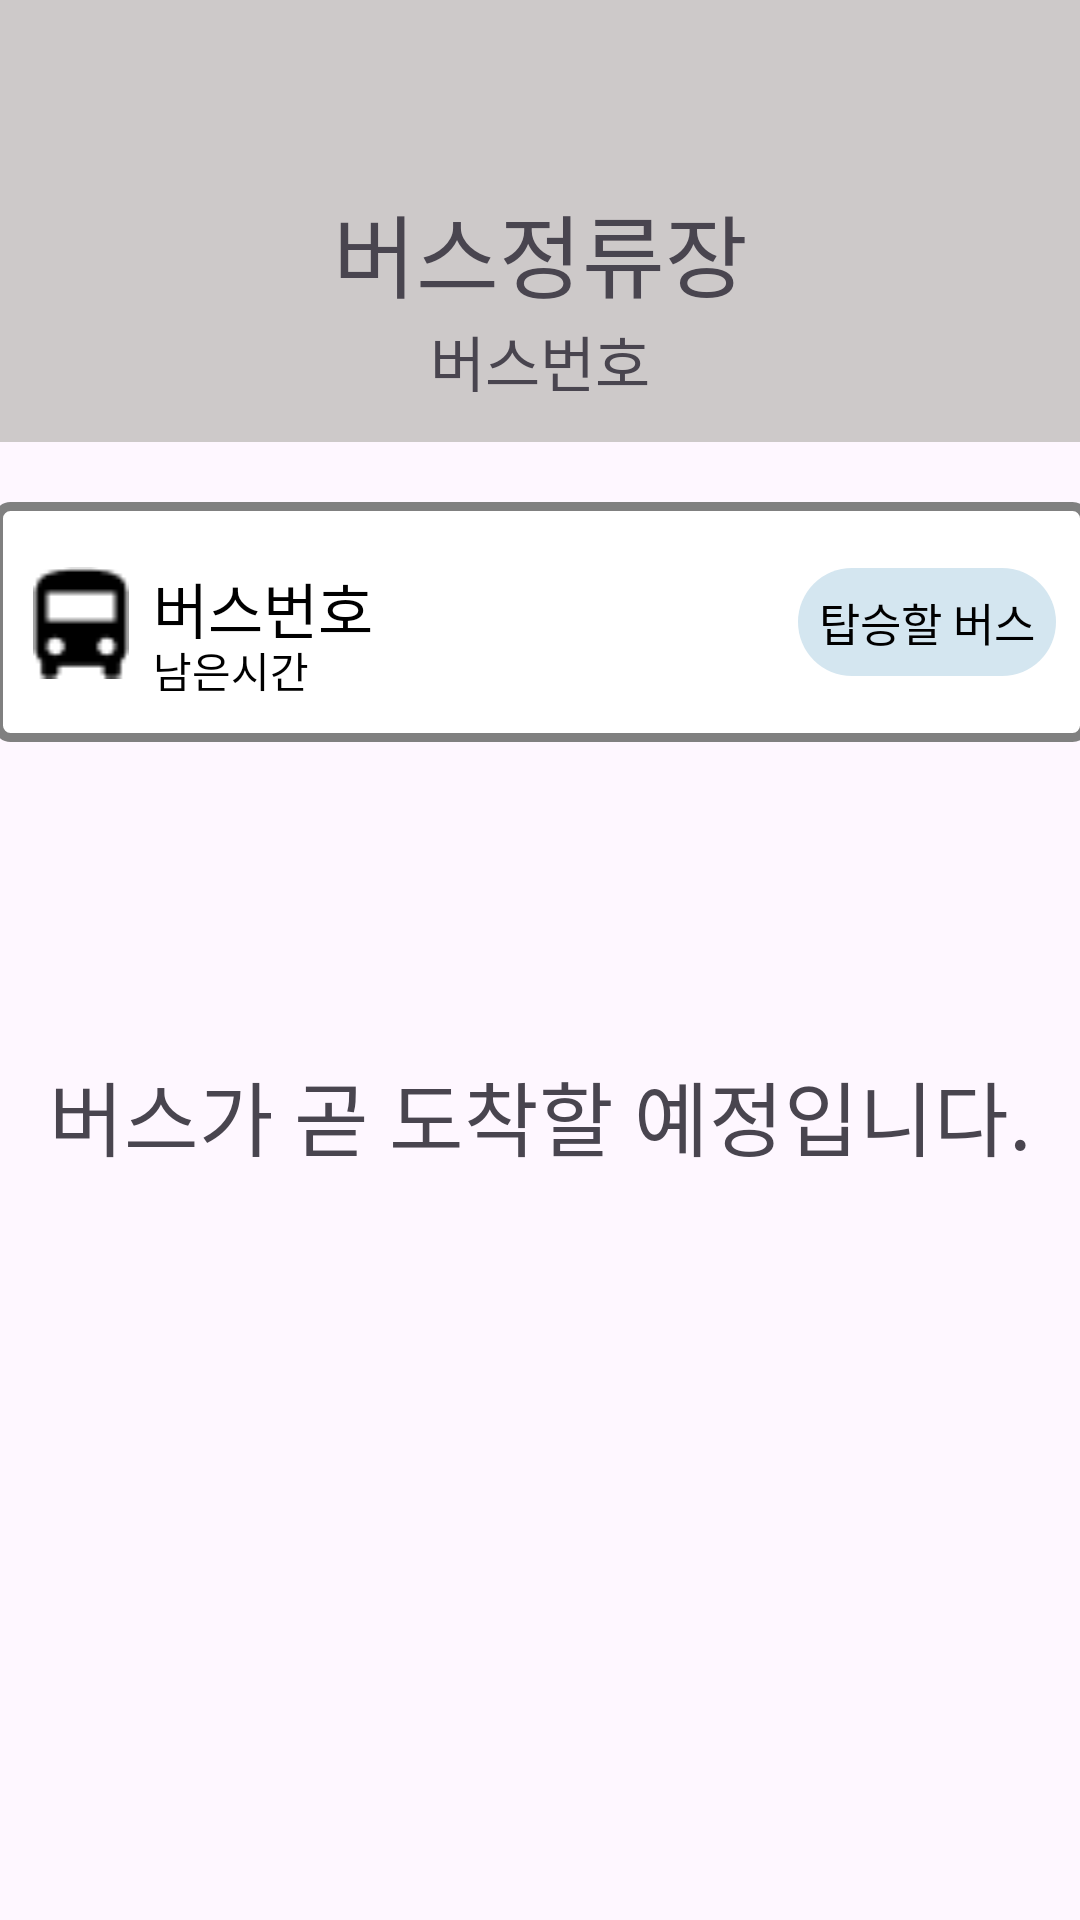

Named icons in this screenshot (1080 x 1920) and their centers, point (x, y):
busicon: point (81, 623)
